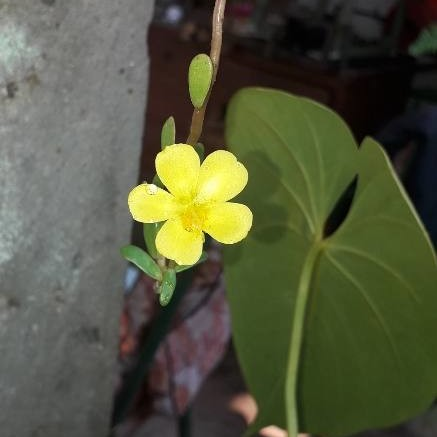obstacle: (128, 45, 411, 409)
